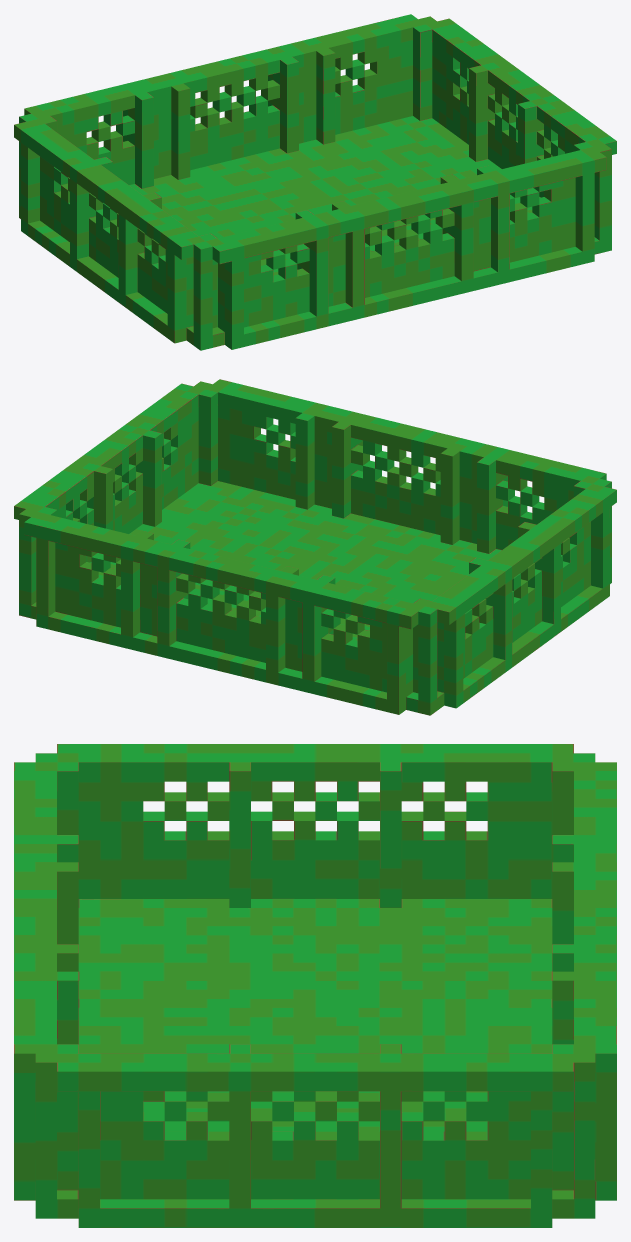
Rendered from canastilla (1).obj.
3 views of the same model, one above another, from view 1: azimuth 30°, elevation 25°; view 2: azimuth 150°, elevation 25°; view 3: azimuth 270°, elevation 25° (orthographic). The views are drawn at different scales.
Visible parts, largest first — view 1: canastilla_(1); view 2: canastilla_(1); view 3: canastilla_(1).
Part boxes in pixels (x1,y1,x2,y2): canastilla_(1): [14, 14, 616, 350]; canastilla_(1): [14, 379, 616, 715]; canastilla_(1): [14, 744, 616, 1227].
Size of the model in its own units: 3.6 by 0.8 by 2.8.
Materials: 1 (1 with a texture image).
